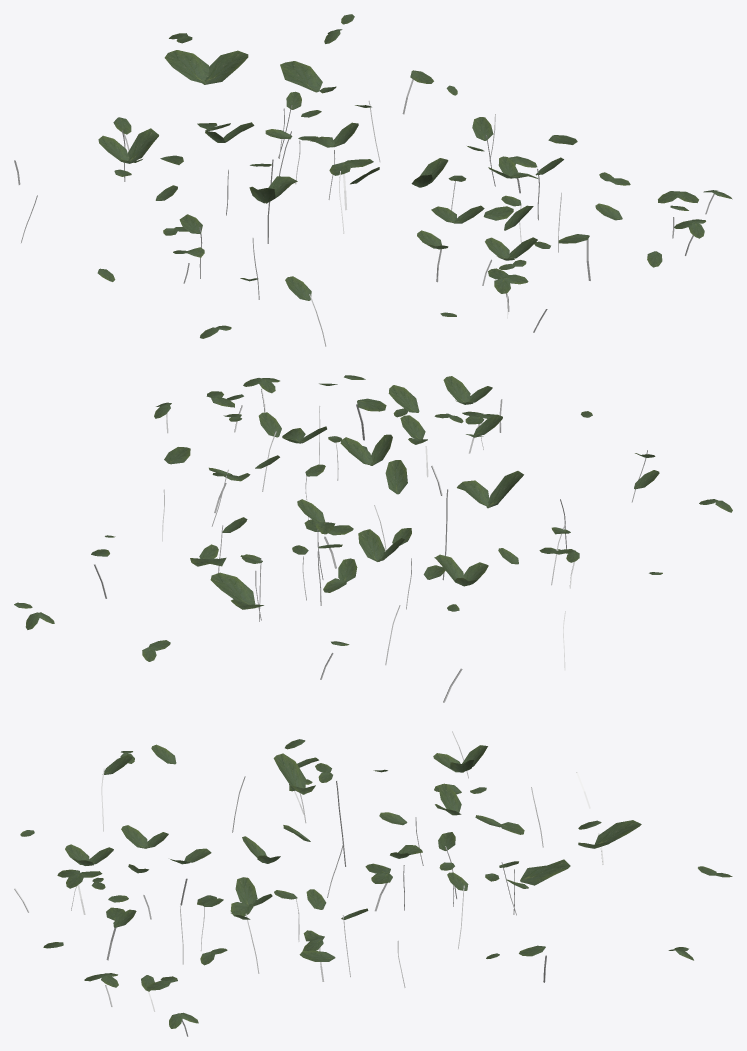
Rendered from clovers_01.gltf.
3 renders of one model, top to bottom at view 1: azimuth 30°, elevation 25°; view 2: azimuth 150°, elevation 25°; view 3: azimuth 270°, elevation 25°, orthographic.
Visible parts, largest first — view 1: Clovers 01; view 2: Clovers 01; view 3: Clovers 01.
Boxes of the visible parts, box(x1,y1,x2,y2) form: Clovers 01: box(14, 14, 732, 346); Clovers 01: box(14, 375, 732, 702); Clovers 01: box(14, 731, 732, 1036).
Size of the model in its own units: 0.3784 by 0.06 by 0.4213.
2 materials, 1 textured.
